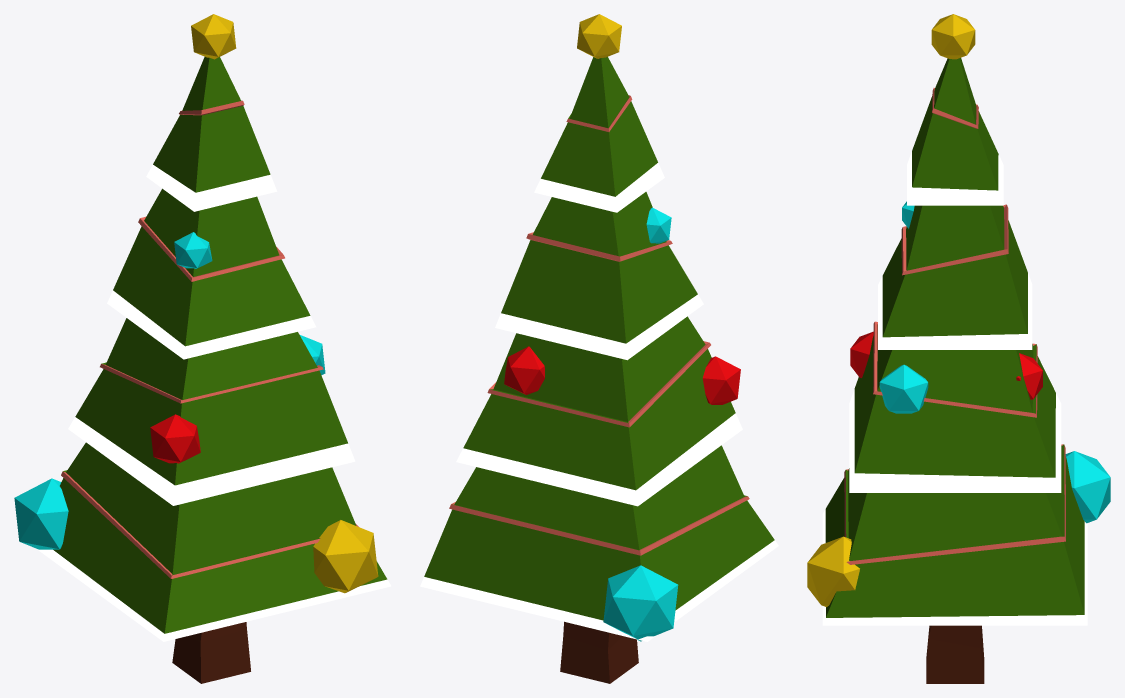
Rendered from tree.fbx.
The picture shows the model from 3 angles, left to right: view 1: azimuth 30°, elevation 25°; view 2: azimuth 150°, elevation 25°; view 3: azimuth 270°, elevation 25°; orthographic projection.
Parts seen in each view (by area): view 1: tree.003; view 2: tree.003; view 3: tree.003.
Boxes of the visible parts, box(x1,y1,x2,y2) form: tree.003: box(14, 14, 390, 683); tree.003: box(420, 14, 778, 683); tree.003: box(807, 14, 1110, 683).
Bounding box in the file's own units: 0.6002 × 1.52 × 0.6331.
